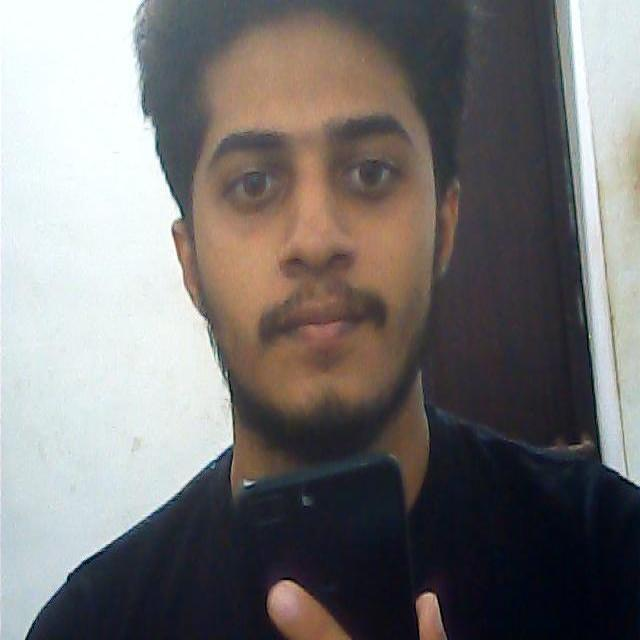phone: (237, 451, 413, 640)
